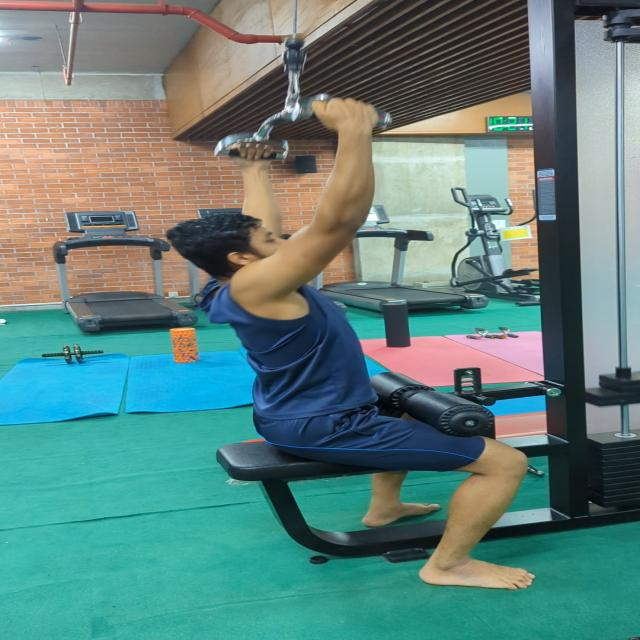Normal_LatPulldown: (157, 97, 551, 595)
